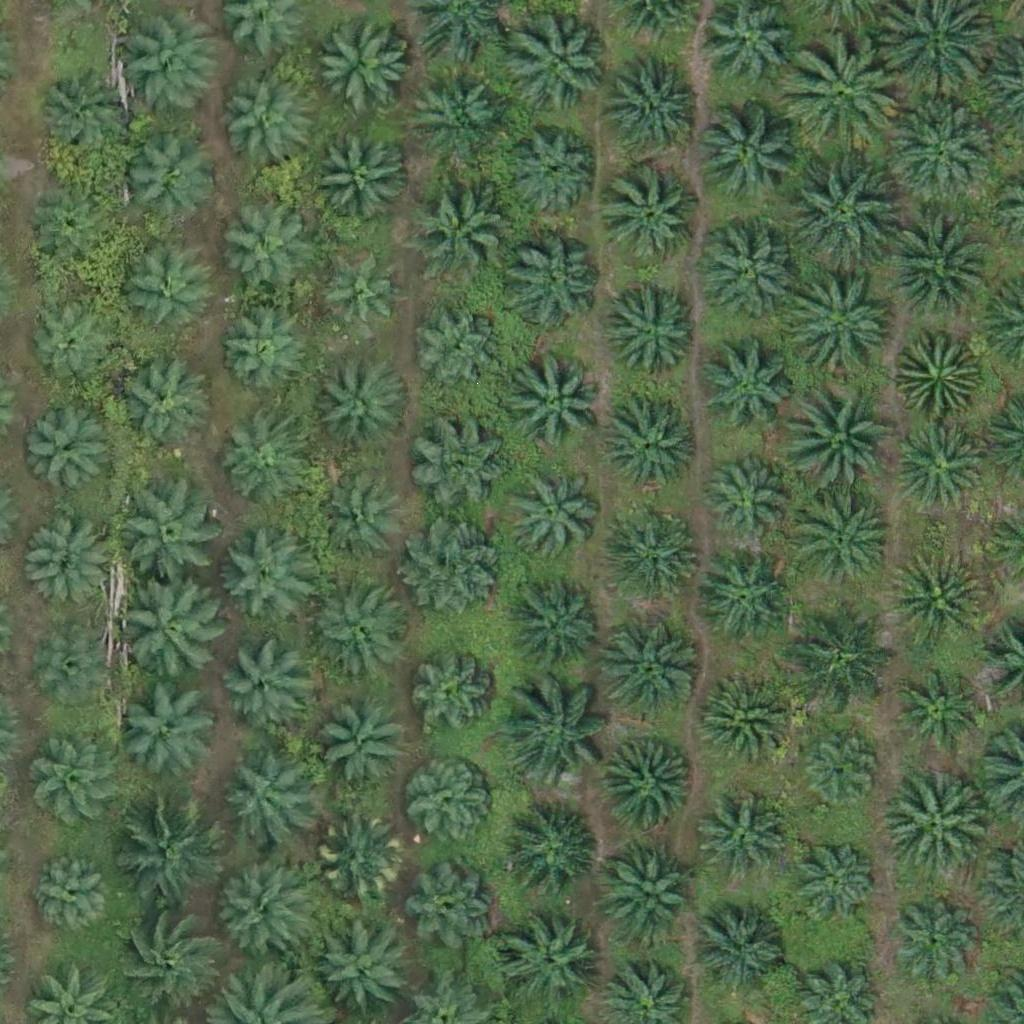Kelapa_Sawit: (113, 576, 226, 690), (503, 680, 616, 793), (788, 596, 901, 709), (788, 271, 901, 384), (787, 155, 900, 268), (113, 800, 225, 914), (888, 92, 1000, 206), (877, 768, 989, 881), (109, 907, 221, 1020), (787, 485, 899, 598), (782, 375, 894, 488), (785, 38, 897, 151), (880, 207, 992, 320), (691, 670, 791, 771), (693, 899, 793, 1000), (503, 803, 603, 904), (499, 915, 599, 1016), (314, 920, 414, 1021), (125, 681, 225, 782), (37, 63, 137, 164), (110, 359, 210, 460), (125, 484, 225, 585), (215, 196, 315, 297), (309, 579, 409, 680), (310, 130, 410, 231), (312, 11, 412, 112), (407, 63, 507, 164), (410, 174, 510, 275), (409, 412, 509, 513), (407, 516, 507, 617), (510, 351, 610, 452), (503, 466, 603, 567), (507, 575, 607, 676), (601, 618, 701, 719), (600, 394, 700, 495), (602, 165, 702, 266), (698, 102, 798, 203), (693, 338, 793, 439), (696, 550, 796, 651), (886, 549, 986, 650), (598, 737, 698, 837), (599, 842, 699, 942), (208, 863, 308, 963), (120, 17, 220, 117), (216, 522, 316, 622), (509, 16, 609, 116), (500, 233, 600, 333), (608, 505, 708, 605), (603, 281, 703, 381), (610, 52, 710, 152), (697, 220, 797, 320), (26, 851, 114, 940), (799, 727, 887, 815), (788, 834, 876, 922), (701, 795, 789, 883), (218, 641, 306, 729), (219, 757, 307, 845), (34, 741, 122, 829), (32, 187, 120, 275), (123, 135, 211, 223), (119, 247, 207, 335), (220, 79, 308, 167), (217, 312, 305, 400), (319, 356, 407, 444), (414, 306, 502, 394), (897, 419, 985, 507), (893, 670, 981, 758), (313, 249, 400, 338), (889, 895, 976, 983), (409, 655, 496, 743), (406, 764, 493, 852), (409, 863, 496, 951), (316, 816, 403, 904), (315, 701, 402, 789), (28, 304, 115, 392), (27, 413, 114, 501), (24, 521, 111, 609), (216, 419, 303, 507), (314, 477, 401, 565), (509, 127, 596, 215), (703, 452, 790, 540), (895, 327, 982, 415), (38, 631, 113, 707)
